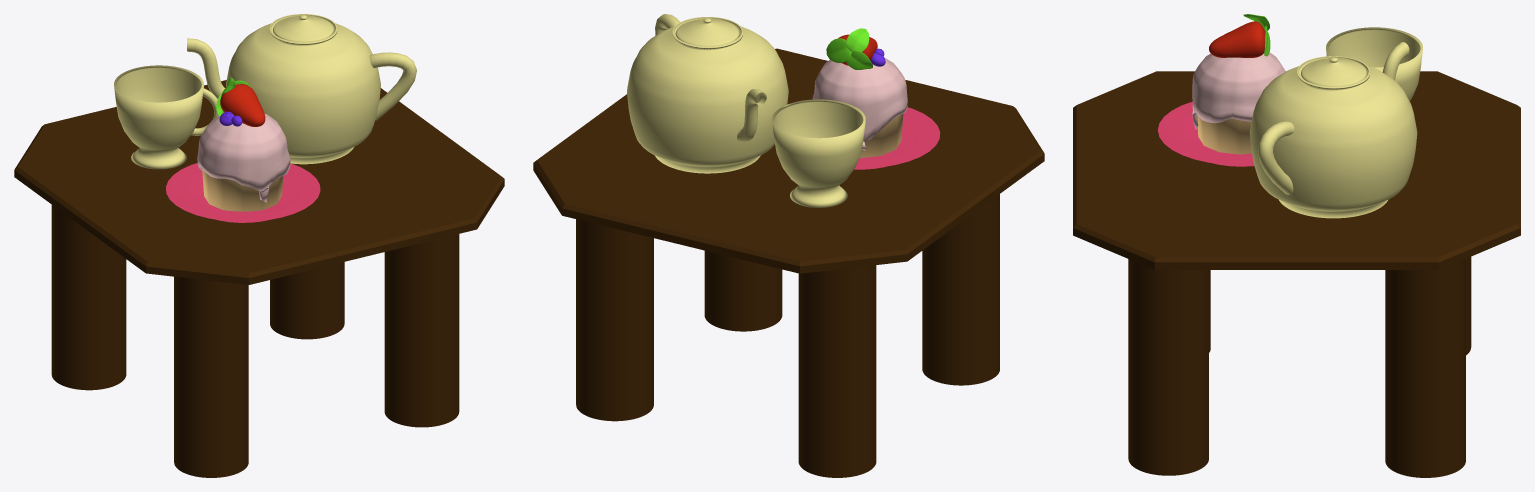
File: cake.glb
3 renders of one model, left to right at view 1: azimuth 30°, elevation 25°; view 2: azimuth 150°, elevation 25°; view 3: azimuth 270°, elevation 25°, orthographic. The views are drawn at different scales.
Visible parts, largest first — view 1: Plane, Cylinder.002, Cylinder.001, icing, Cylinder, cake, Cylinder.003, strawberry; view 2: Plane, Cylinder.002, Cylinder.001, icing, Cylinder, Cylinder.003, cake; view 3: Plane, Cylinder.002, icing, Cylinder.001, Cylinder, cake, strawberry, Cylinder.003.
Boxes of the visible parts, bbox=[...] form: Plane: bbox=[14, 80, 504, 477]; Cylinder.002: bbox=[187, 14, 416, 164]; Cylinder.001: bbox=[114, 65, 218, 169]; icing: bbox=[197, 114, 290, 202]; Cylinder: bbox=[166, 163, 320, 222]; cake: bbox=[202, 169, 283, 211]; Cylinder.003: bbox=[273, 15, 333, 41]; strawberry: bbox=[220, 84, 265, 126]; Plane: bbox=[533, 48, 1044, 477]; Cylinder.002: bbox=[627, 14, 788, 173]; Cylinder.001: bbox=[772, 99, 865, 207]; icing: bbox=[812, 57, 907, 150]; Cylinder: bbox=[854, 107, 940, 169]; Cylinder.003: bbox=[675, 18, 739, 46]; cake: bbox=[859, 114, 903, 157]; Plane: bbox=[1073, 71, 1520, 477]; Cylinder.002: bbox=[1249, 42, 1417, 218]; icing: bbox=[1192, 52, 1285, 129]; Cylinder.001: bbox=[1326, 27, 1422, 100]; Cylinder: bbox=[1157, 101, 1254, 166]; cake: bbox=[1197, 116, 1251, 154]; strawberry: bbox=[1209, 21, 1265, 57]; Cylinder.003: bbox=[1301, 57, 1366, 86].
Size of the model in its own units: 0.3694 by 0.3447 by 0.3694.
